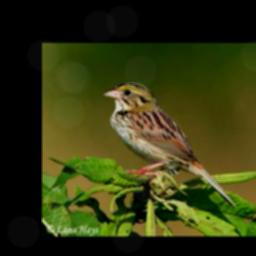Sparrow: (101, 80, 239, 211)
